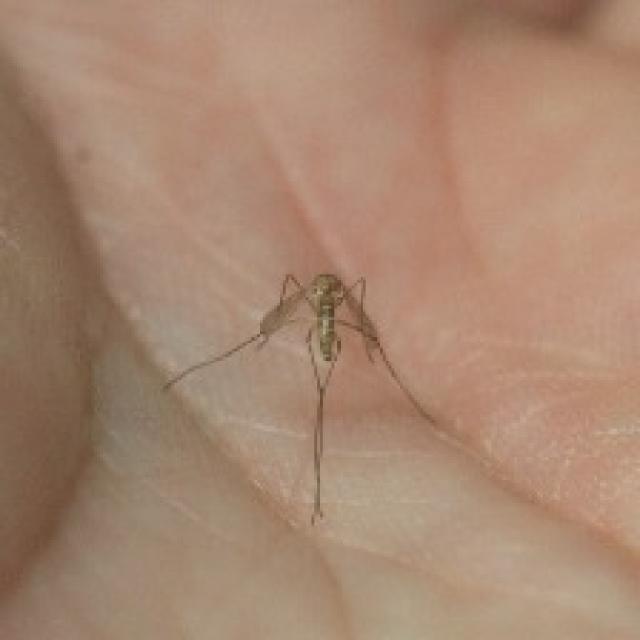culex: (157, 268, 443, 526)
